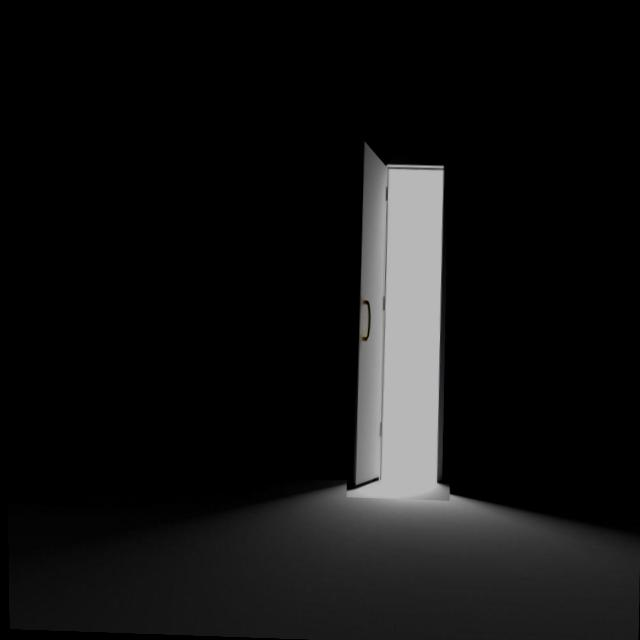open: (340, 133, 461, 501)
